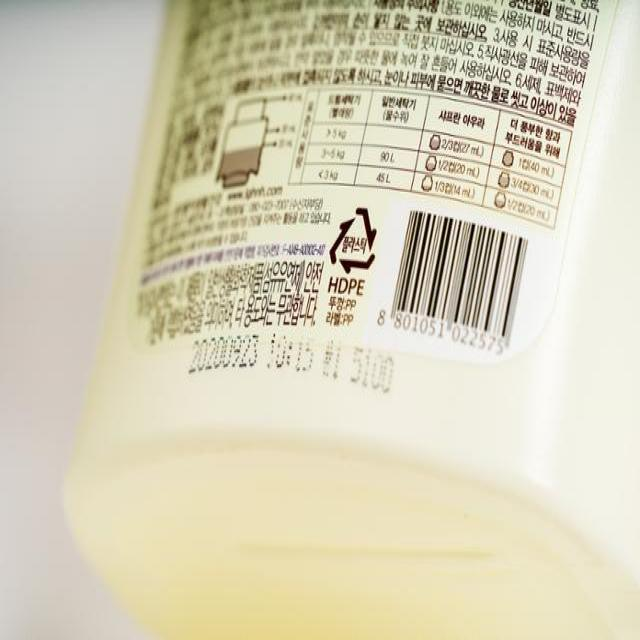Plastic: (329, 206, 379, 274)
